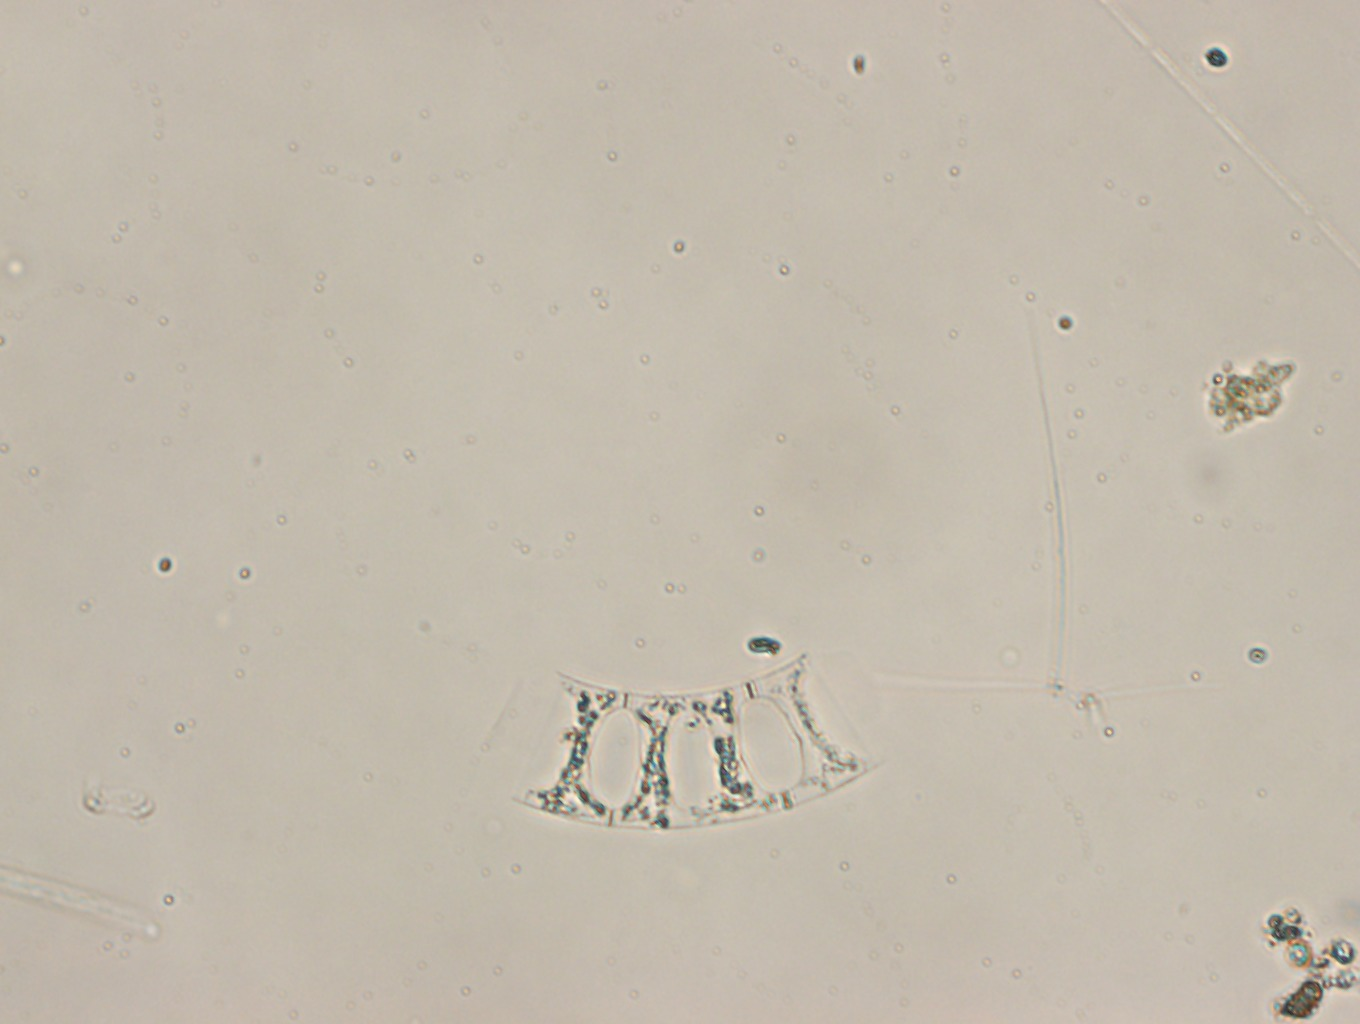eucampia: (510, 653, 872, 831)
